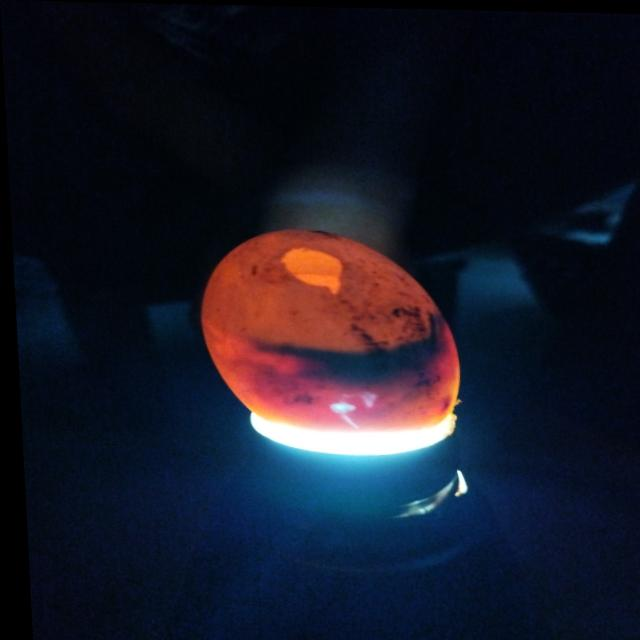Area Infectada: (250, 311, 447, 390)
